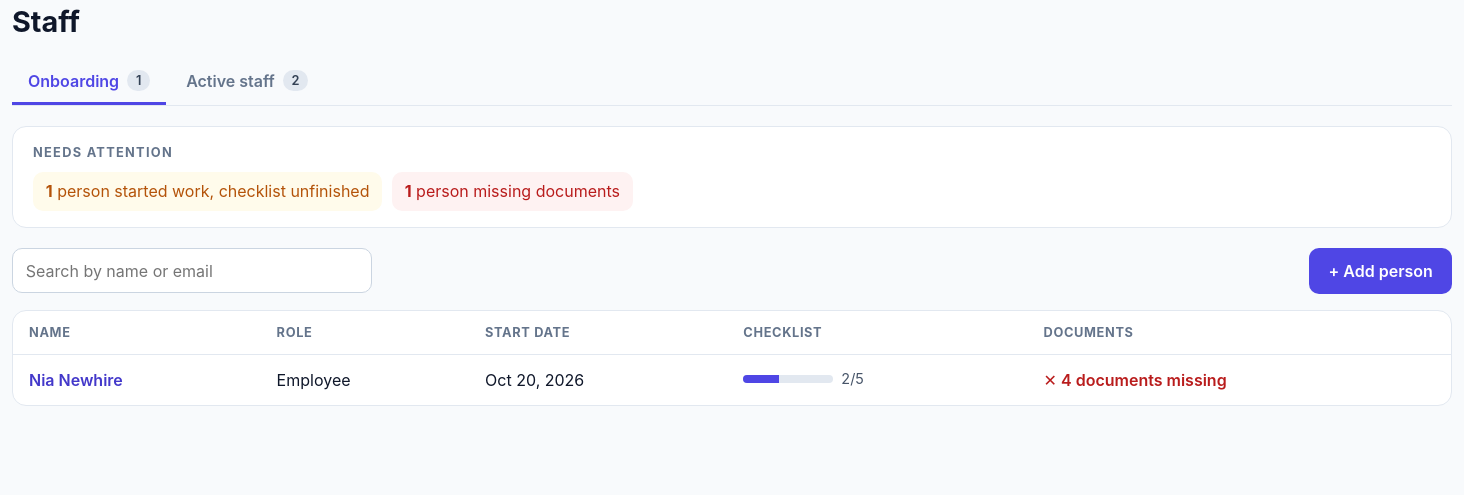
Dashboard › switches to active staff and shows document problems
Expected: the link "Nia Newhire" is shown, [29,368,123,392]
Click the tab "Active staff 2".
click(247, 82)  # box [170,59,324,105]
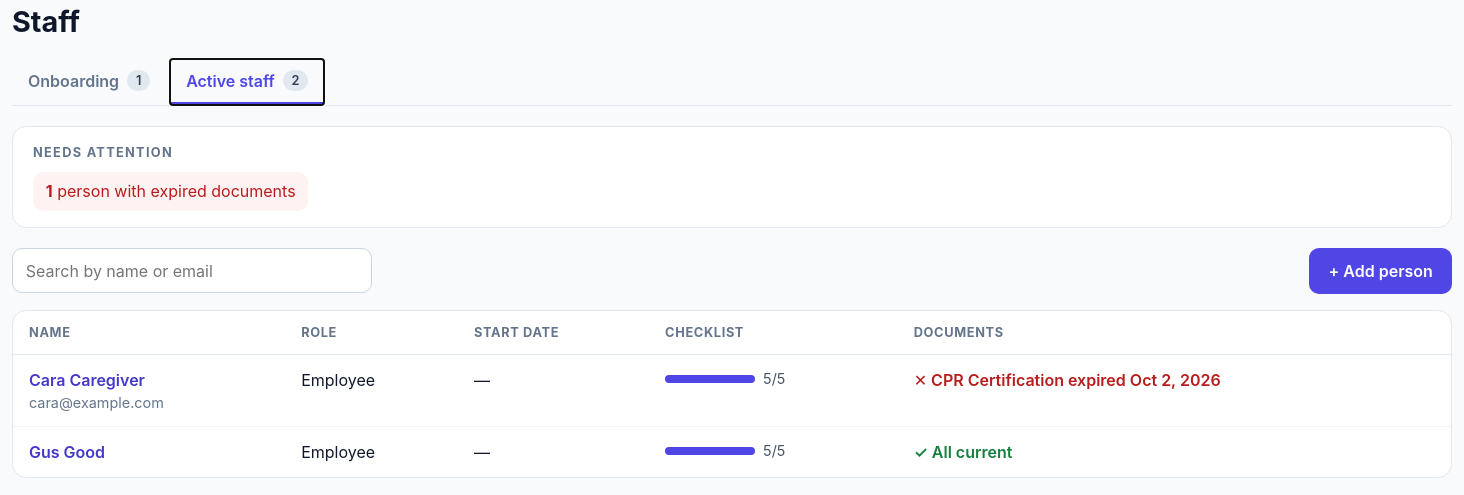
Expected: the link "Cara Caregiver" is shown, [29,368,145,392]
Expected: the link "Nia Newhire" is gone
Expected: the text "✕ CPR Certification expired Oct 2, 2026" is shown, [914,370,1221,390]
